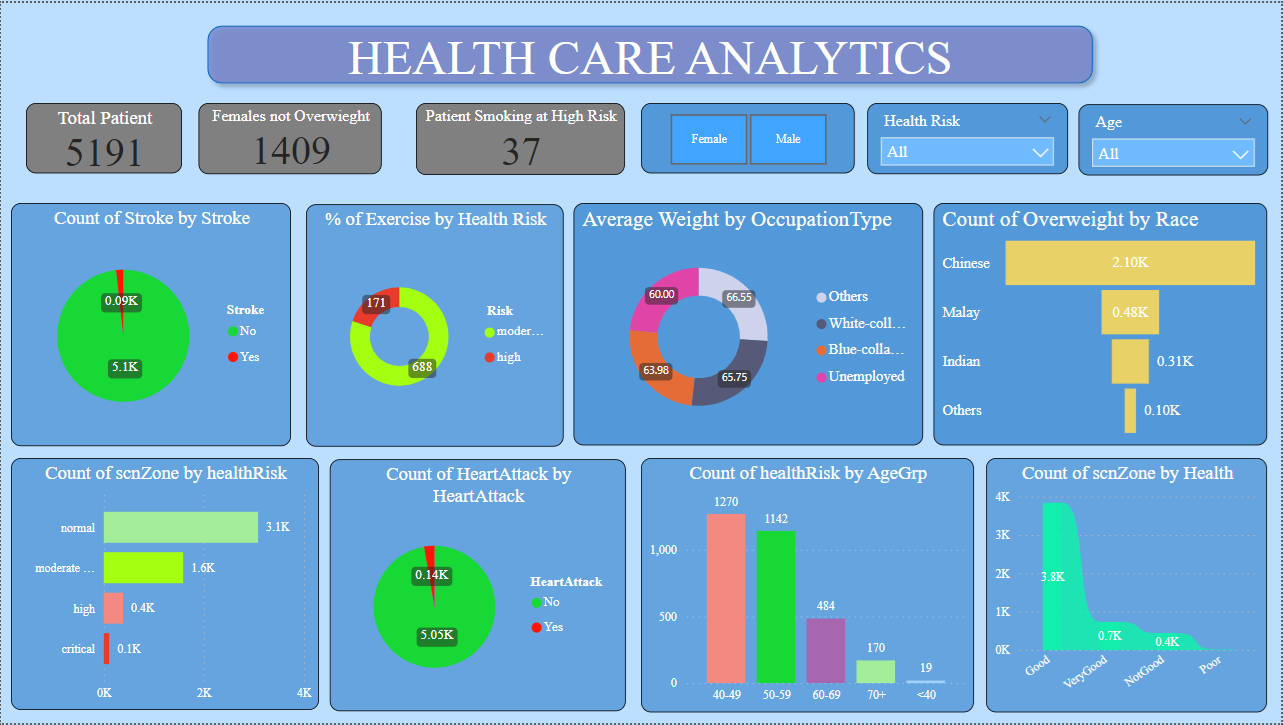

The page's visual inventory and layout, read from the dashboard file:
{"tool":"powerbi","page":{"name":"Page 1","canvas":[1280,720],"ordinal":0},"visuals":[{"type":"card","title":"Total Patient","fields":{"Values":["CountNonNull(Table1.scnZone)"]},"box":[25.3,100,156,70.7],"z":0},{"type":"pieChart","fields":{"Category":["Table1.HeartAttack"],"Y":["CountNonNull(Table1.HeartAttack)"]},"box":[328.8,456,295.8,251.8],"z":1000},{"type":"pieChart","fields":{"Category":["Table1.Stroke"],"Y":["CountNonNull(Table1.Stroke)"]},"box":[9.8,200.5,279.9,243.3],"z":2000},{"type":"card","title":"Females not Overwieght","fields":{"Values":["CountNonNull(Table1.Overweight)"]},"box":[198,100.2,183.4,70.9],"z":3000},{"type":"barChart","fields":{"Category":["Table1.healthRisk"],"Y":["CountNonNull(Table1.scnZone)"]},"box":[9.8,454.7,308,251.8],"z":4000},{"type":"donutChart","title":"Average Weight by OccupationType","fields":{"Category":["Table1.OccupationType"],"Y":["Avg(Table1.Weight)"]},"box":[572.1,200.5,349.6,242],"z":5000},{"type":"funnel","fields":{"Category":["Table1.Race"],"Y":["CountNonNull(Table1.Overweight)"]},"box":[932.7,200.5,333.7,242],"z":6000},{"type":"columnChart","fields":{"Category":["Table1.AgeGrp"],"Y":["CountNonNull(Table1.healthRisk)"]},"box":[640.5,454.7,332.5,254.3],"z":7000},{"type":"card","title":"Patient Smoking at High Risk","fields":{"Values":["CountNonNull(Table1.Smoking)"]},"box":[415.6,100.2,209,72.1],"z":8000},{"type":"donutChart","title":"% of Exercise by Health Risk","fields":{"Category":["Table1.healthRisk"],"Y":["CountNonNull(Table1.Exercise)"]},"box":[304.4,201.7,257.9,242],"z":9000},{"type":"slicer","fields":{"Values":["Table1.healthRisk"]},"box":[866.7,100.2,200.5,70.9],"z":10000},{"type":"slicer","fields":{"Values":["Table1.AgeGrp"]},"box":[1076.9,101.5,189.5,70.9],"z":11000},{"type":"slicer","fields":{"Values":["Table1.Gender"]},"box":[640,100,213.3,70.7],"z":12000},{"type":"shape","box":[198,13.4,903.4,75.8],"z":13000},{"type":"ribbonChart","fields":{"Category":["Table1.Health"],"Y":["CountNonNull(Table1.scnZone)"]},"box":[985.3,454.7,281.2,254.3],"z":14000}]}

Visuals, with their boxes in screenshot pixels (x1, y1, x2, y2), scaled from the page's 1280x720 canvas onto the 1284x725 screenshot:
"Total Patient" card: bbox(25, 101, 182, 172)
pieChart - Table1.HeartAttack x CountNonNull(Table1.HeartAttack): bbox(330, 459, 627, 713)
pieChart - Table1.Stroke x CountNonNull(Table1.Stroke): bbox(10, 202, 291, 447)
"Females not Overwieght" card: bbox(199, 101, 383, 172)
barChart - Table1.healthRisk x CountNonNull(Table1.scnZone): bbox(10, 458, 319, 711)
"Average Weight by OccupationType" donutChart: bbox(574, 202, 925, 446)
funnel - Table1.Race x CountNonNull(Table1.Overweight): bbox(936, 202, 1270, 446)
columnChart - Table1.AgeGrp x CountNonNull(Table1.healthRisk): bbox(643, 458, 976, 714)
"Patient Smoking at High Risk" card: bbox(417, 101, 627, 173)
"% of Exercise by Health Risk" donutChart: bbox(305, 203, 564, 447)
slicer - Table1.healthRisk: bbox(869, 101, 1071, 172)
slicer - Table1.AgeGrp: bbox(1080, 102, 1270, 174)
slicer - Table1.Gender: bbox(642, 101, 856, 172)
shape: bbox(199, 13, 1105, 90)
ribbonChart - Table1.Health x CountNonNull(Table1.scnZone): bbox(988, 458, 1270, 714)
